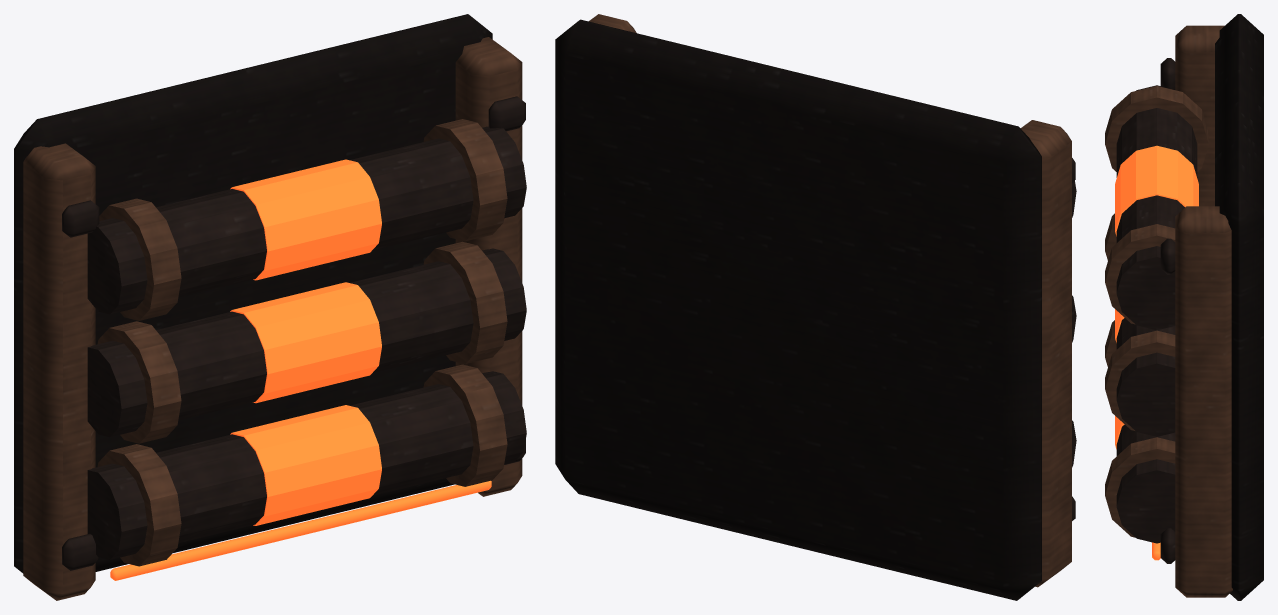
The model's file is pressure_bank.glb.
3 renders of one model, left to right at view 1: azimuth 30°, elevation 25°; view 2: azimuth 150°, elevation 25°; view 3: azimuth 270°, elevation 25°, orthographic. The views are drawn at different scales.
Parts seen in each view (by area): view 1: pressure_bank - Heat-treated steel, pressure_bank - Cast iron, pressure_bank - Burnished nickel, pressure_bank - Firebrick indicator; view 2: pressure_bank - Cast iron, pressure_bank - Burnished nickel; view 3: pressure_bank - Burnished nickel, pressure_bank - Cast iron, pressure_bank - Heat-treated steel, pressure_bank - Firebrick indicator.
Part boxes in pixels (<box>): pressure_bank - Heat-treated steel: <box>62,96,526,570</box>; pressure_bank - Cast iron: <box>14,14,492,573</box>; pressure_bank - Burnished nickel: <box>23,37,522,600</box>; pressure_bank - Firebrick indicator: <box>110,159,491,580</box>; pressure_bank - Cast iron: <box>555,19,1041,600</box>; pressure_bank - Burnished nickel: <box>589,14,1071,587</box>; pressure_bank - Burnished nickel: <box>1105,25,1232,597</box>; pressure_bank - Cast iron: <box>1215,14,1263,600</box>; pressure_bank - Heat-treated steel: <box>1116,58,1197,563</box>; pressure_bank - Firebrick indicator: <box>1115,145,1198,560</box>.
Bounding box in the file's own units: 3.13 × 2.92 × 1.04.
Materials: 4 (3 with a texture image).
